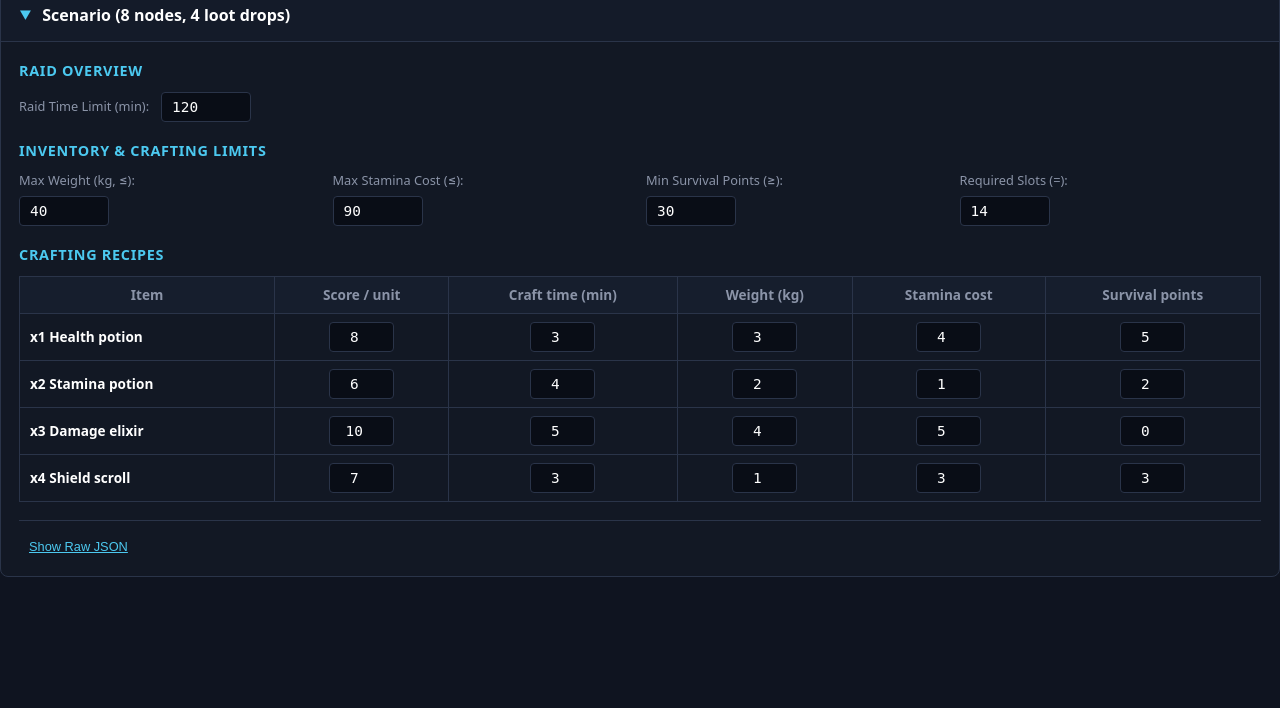
Test: ScenarioPanel component › toggle raw JSON button reveals JSON dump
This screenshot has width=1280, height=708.
Click the button "Show Raw JSON": click(78, 547) [19, 535, 138, 558]
(page scrolled)
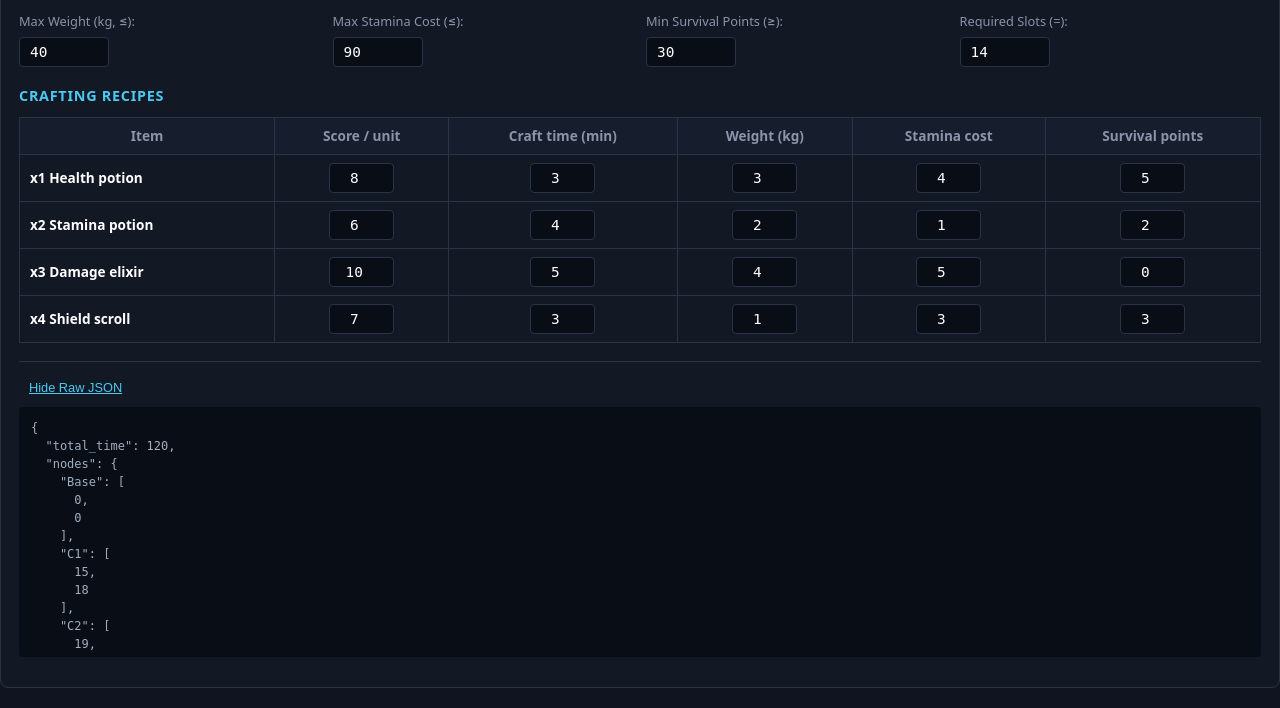
Check: the text with test id "scenario-json-dump" is shown, box [19, 407, 1261, 657]
